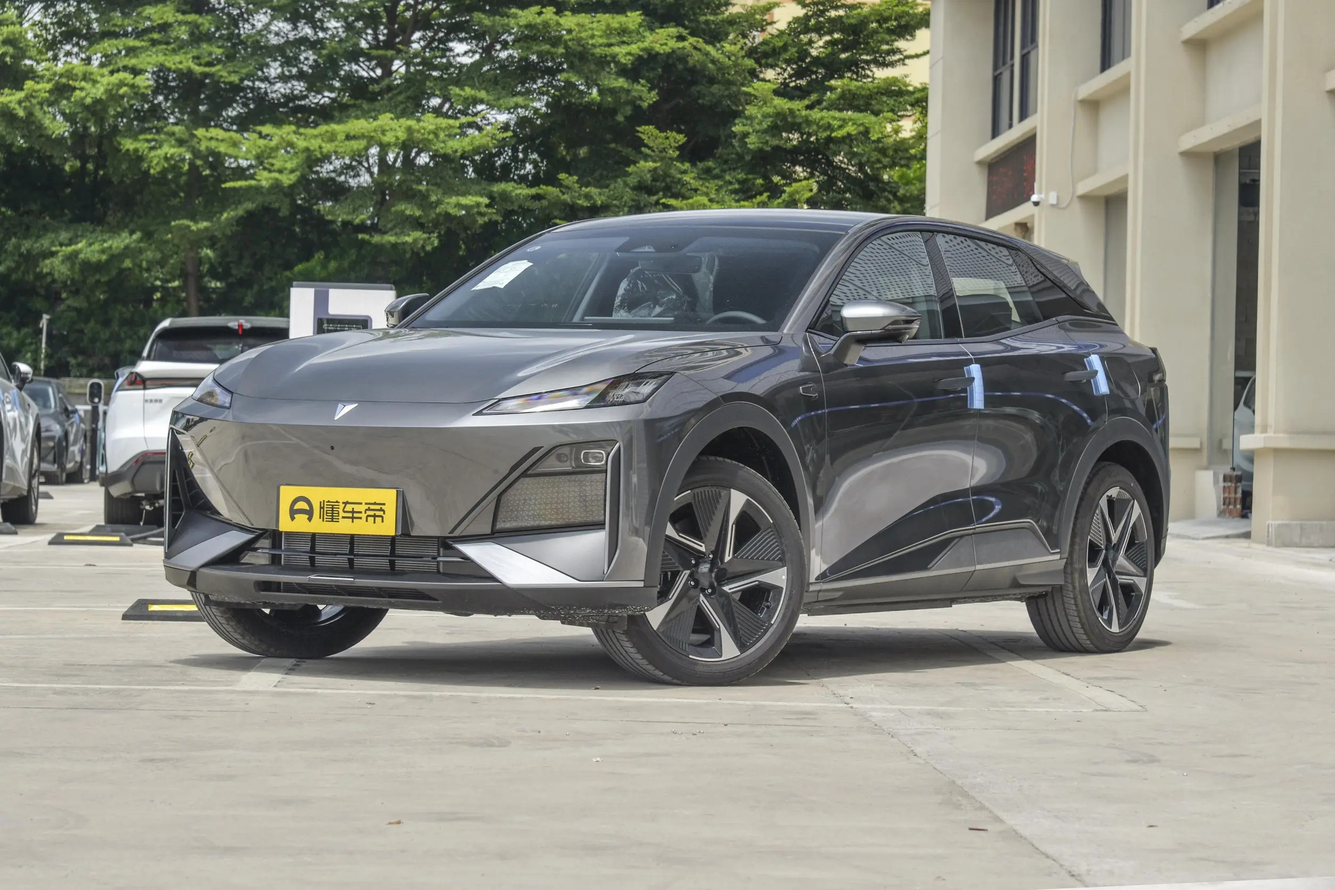Deepal: (334, 403, 357, 419)
